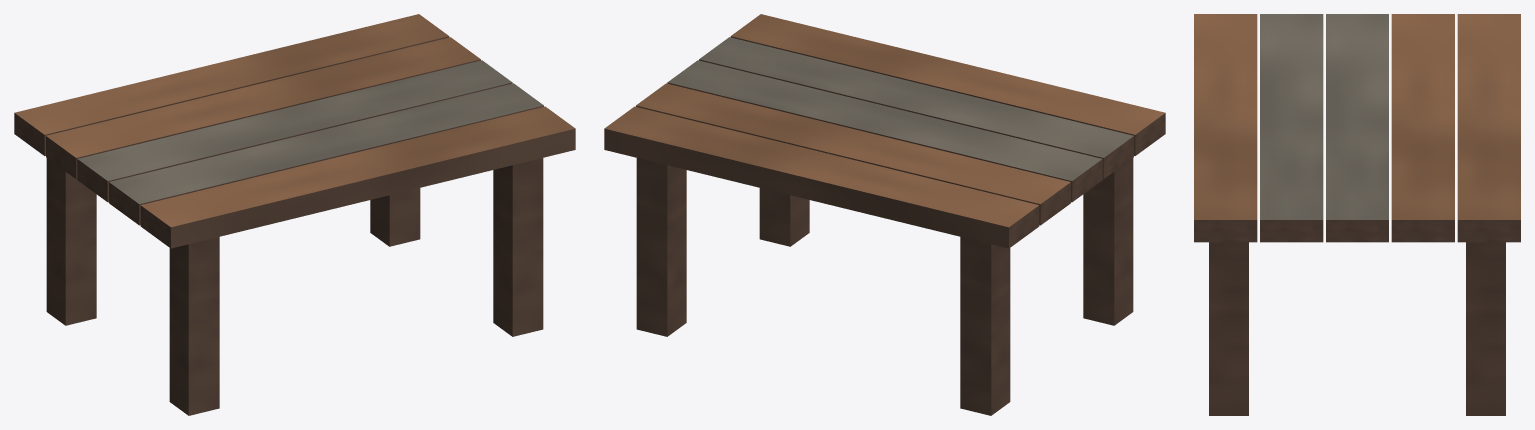
Rendered from table_picnic.fbx.
3 views of the same model, side by side, from view 1: azimuth 30°, elevation 25°; view 2: azimuth 150°, elevation 25°; view 3: azimuth 270°, elevation 25° (orthographic). The views are drawn at different scales.
Visible parts, largest first — view 1: table_picnic; view 2: table_picnic; view 3: table_picnic.
Part boxes in pixels (x1,y1,x2,y2): table_picnic: (14, 14, 575, 415); table_picnic: (604, 14, 1165, 415); table_picnic: (1194, 14, 1520, 415).
Size of the model in its own units: 197 by 93 by 132.
Materials: 1 (1 with a texture image).
